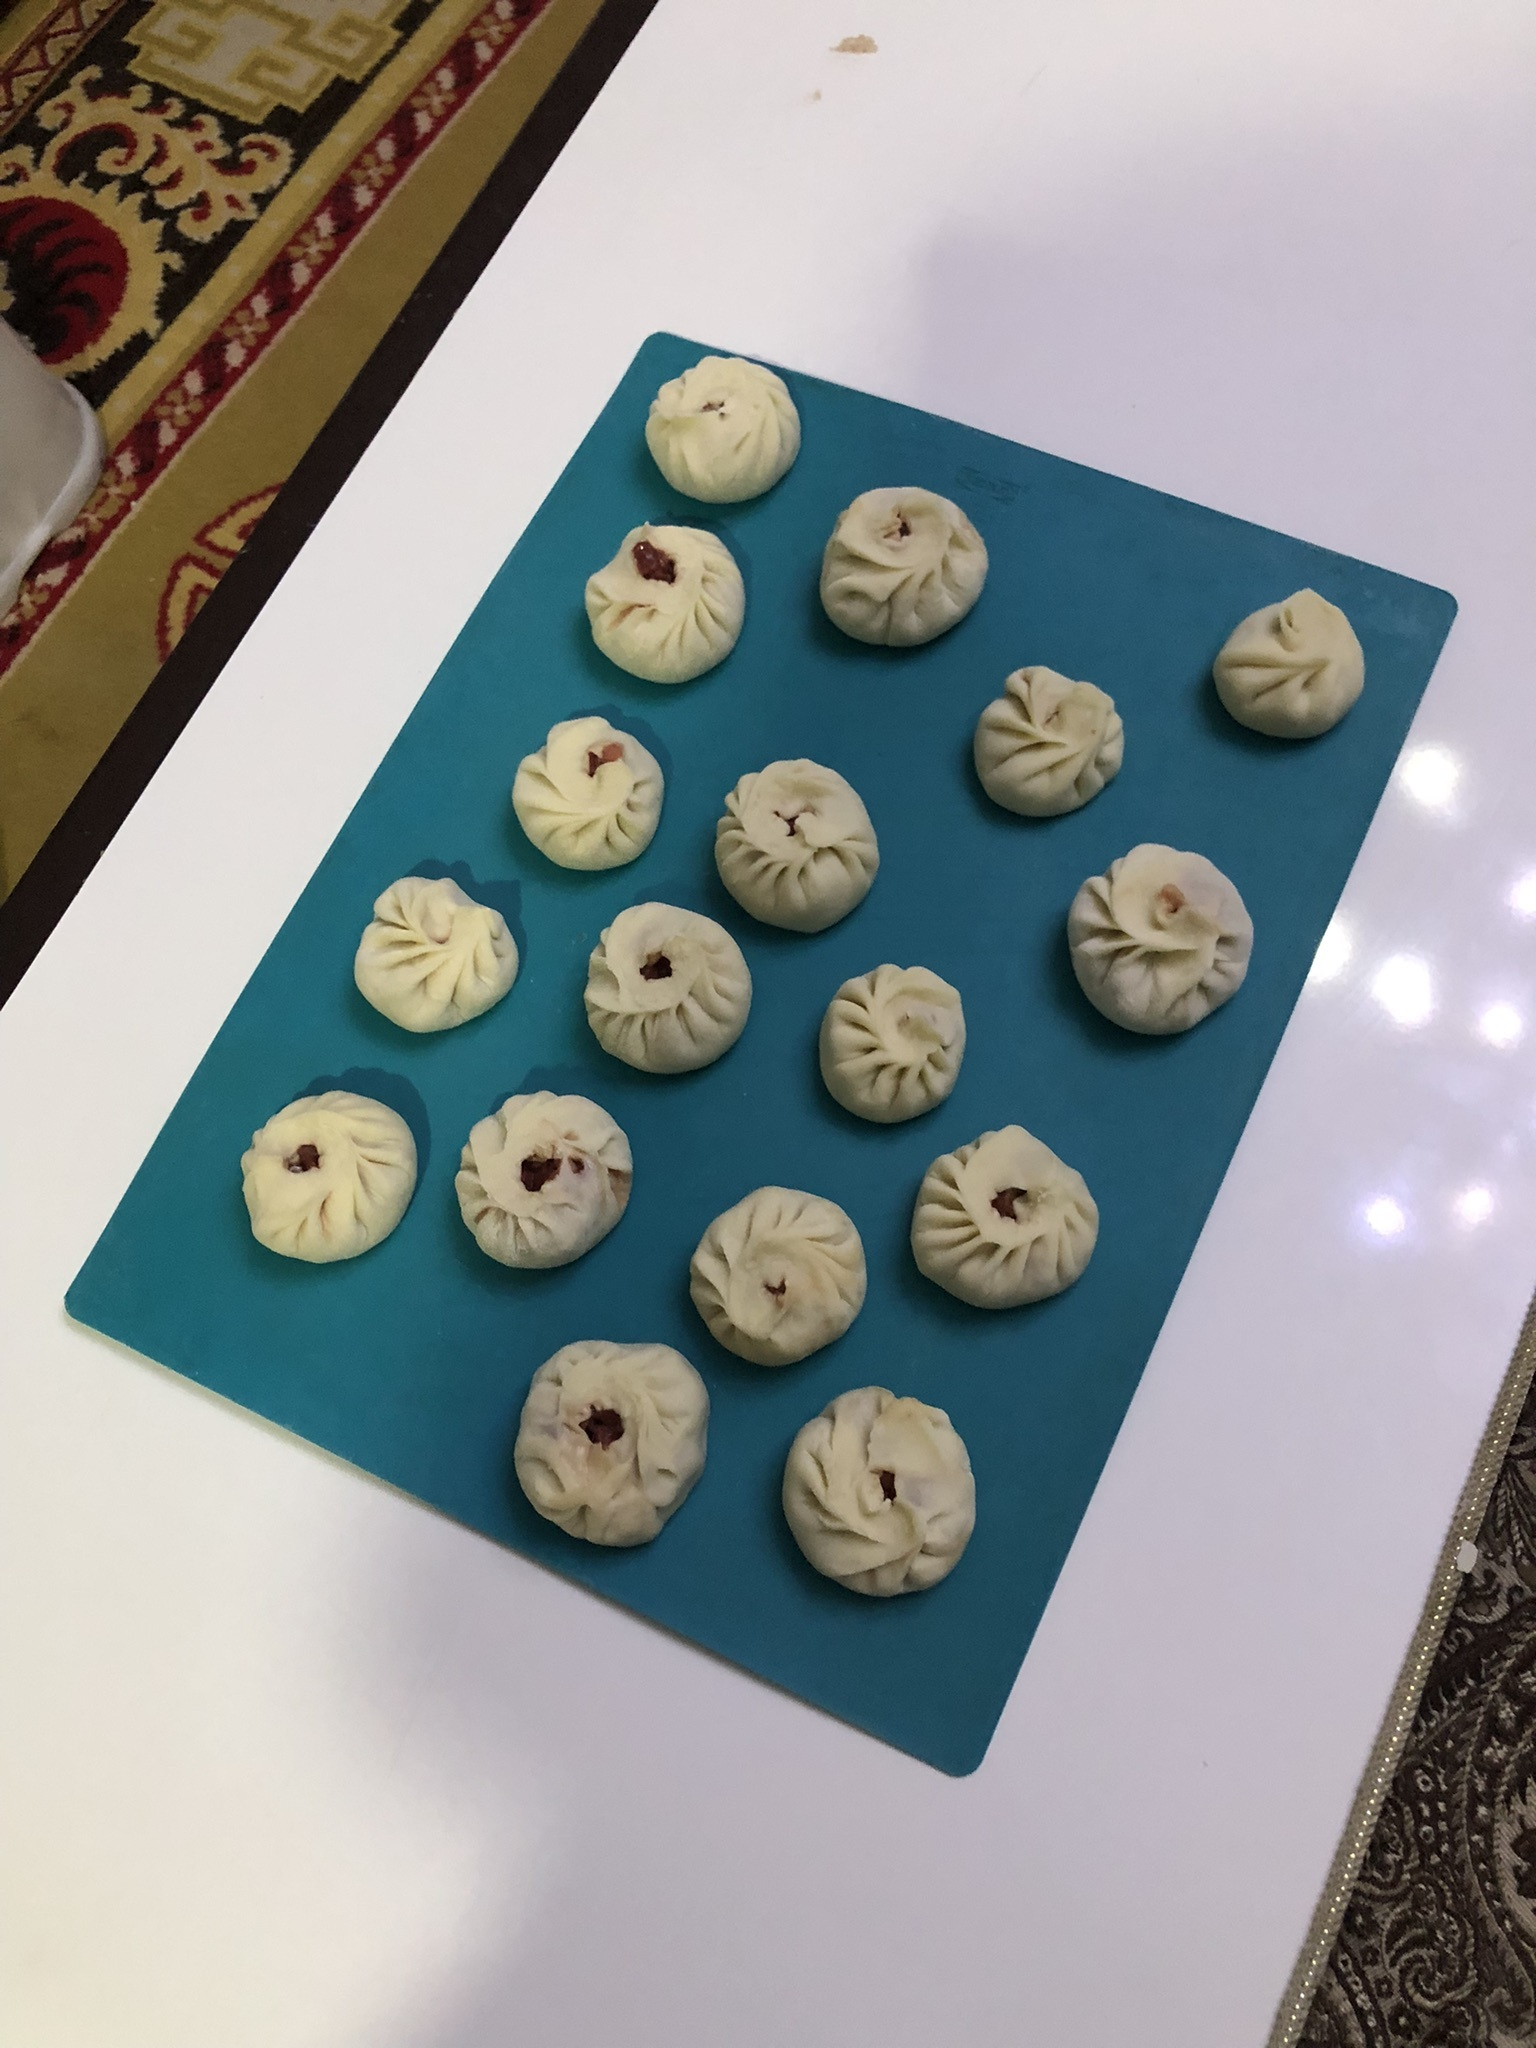buuz: (770, 1376, 987, 1613), (502, 1326, 716, 1564), (1052, 835, 1265, 1051), (891, 1114, 1112, 1319), (678, 1172, 874, 1379), (445, 1084, 641, 1280), (232, 1080, 428, 1272), (699, 743, 886, 943), (578, 892, 762, 1090), (571, 510, 758, 697), (810, 484, 994, 661), (1197, 576, 1371, 763), (342, 863, 520, 1042), (963, 651, 1141, 826), (632, 340, 812, 513), (808, 955, 979, 1134), (503, 703, 671, 880)
